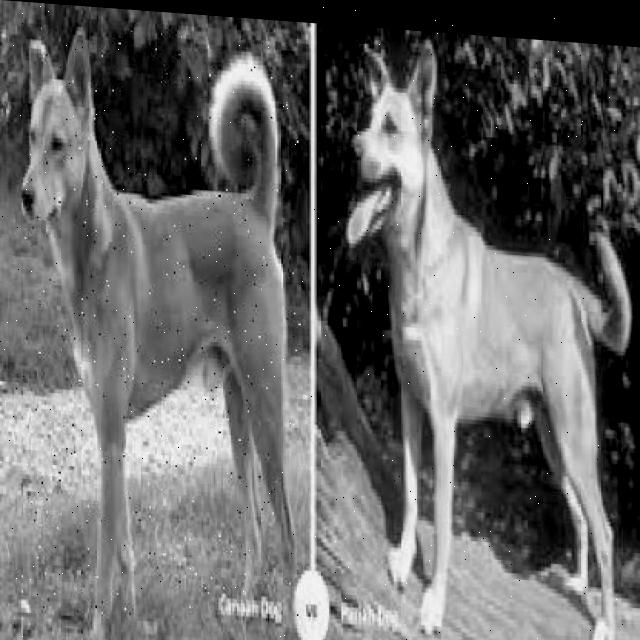Dog: (21, 22, 302, 630)
